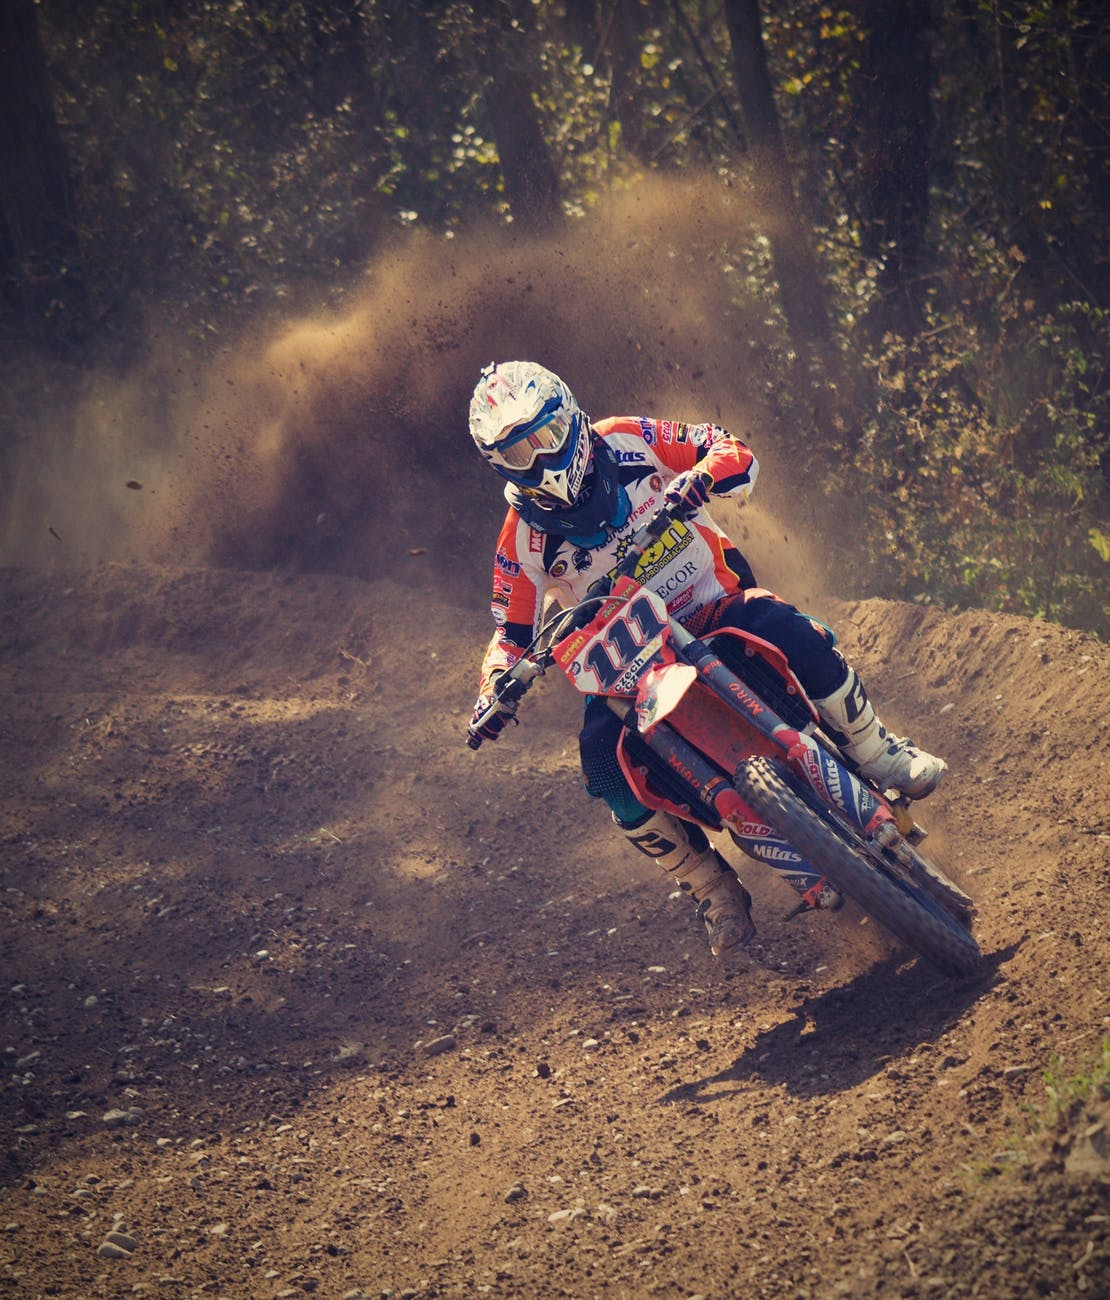helmet: (474, 367, 598, 499)
